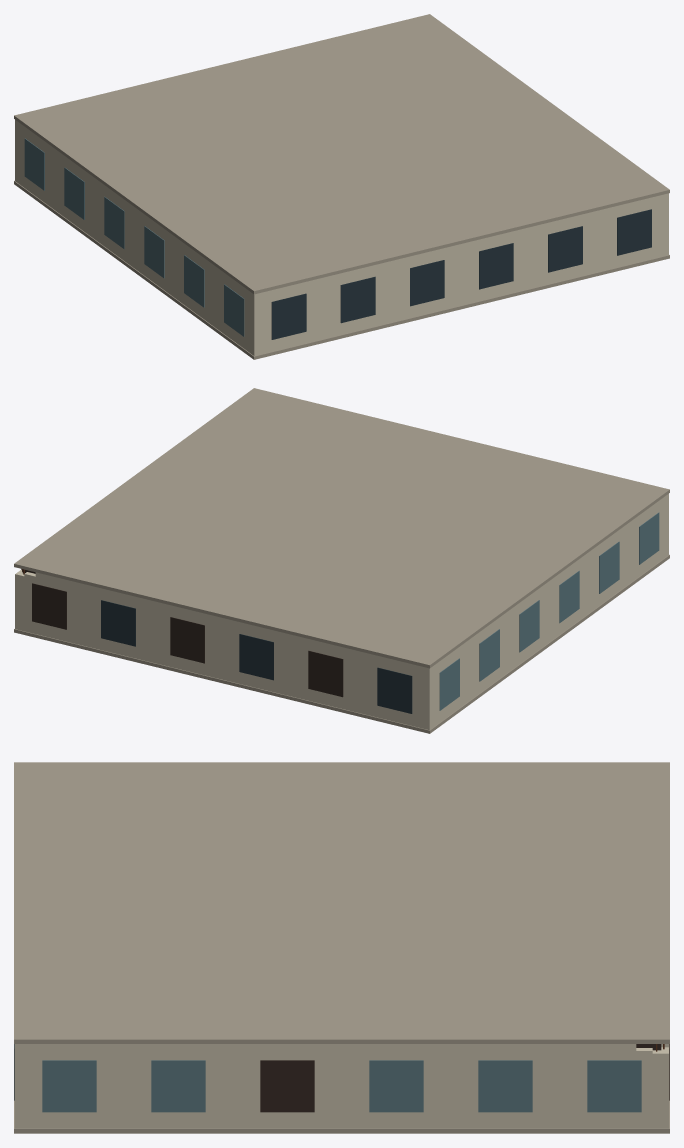
Rendered from tw_stone_24_floor_c_lod1.glb.
3 views of the same model, one above another, from view 1: azimuth 30°, elevation 25°; view 2: azimuth 150°, elevation 25°; view 3: azimuth 270°, elevation 25° (orthographic). The views are drawn at different scales.
Parts seen in each view (by area): view 1: tw_stone_24_floor_c_lod1; view 2: tw_stone_24_floor_c_lod1; view 3: tw_stone_24_floor_c_lod1.
Part boxes in pixels (x1,y1,x2,y2): tw_stone_24_floor_c_lod1: [14, 14, 669, 359]; tw_stone_24_floor_c_lod1: [14, 388, 669, 733]; tw_stone_24_floor_c_lod1: [14, 762, 669, 1133].
Bounding box in the file's own units: 24.08 × 3.8 × 24.08.
2 materials, 2 textured.
